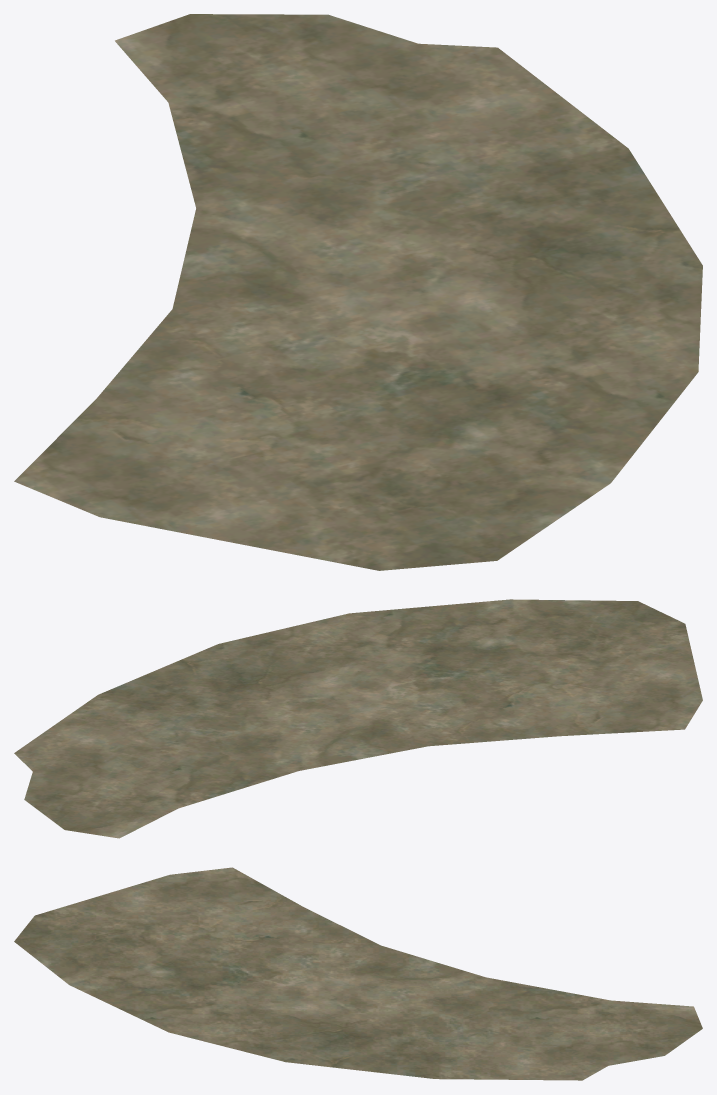
Rendered from OVERHILL_A_01_OBJECT08.fbx.
3 renders of one model, top to bottom at view 1: azimuth 30°, elevation 25°; view 2: azimuth 150°, elevation 25°; view 3: azimuth 270°, elevation 25°, orthographic. The views are drawn at different scales.
Parts seen in each view (by area): view 1: OVERHILL_A_01_OBJECT08; view 2: OVERHILL_A_01_OBJECT08; view 3: OVERHILL_A_01_OBJECT08.
Boxes of the visible parts, x1,y1,x2,y2 form: OVERHILL_A_01_OBJECT08: (14,14,702,570); OVERHILL_A_01_OBJECT08: (14,599,702,838); OVERHILL_A_01_OBJECT08: (14,867,702,1080).
Bounding box in the file's own units: 26186 × 0.00703 × 35783.
1 material, 1 textured.
